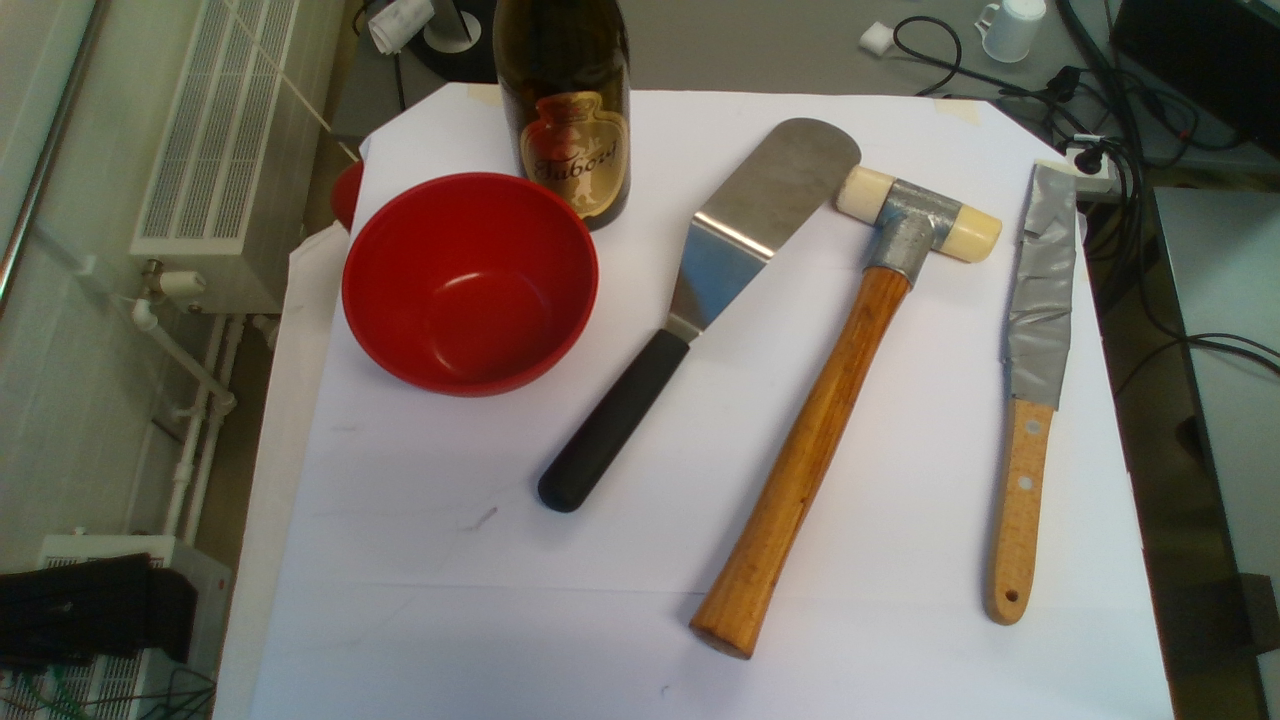bottle: (495, 1, 630, 231)
hammer: (681, 162, 1002, 669), (342, 171, 601, 398)
knife: (987, 161, 1097, 630)
spatula: (537, 118, 864, 516)
